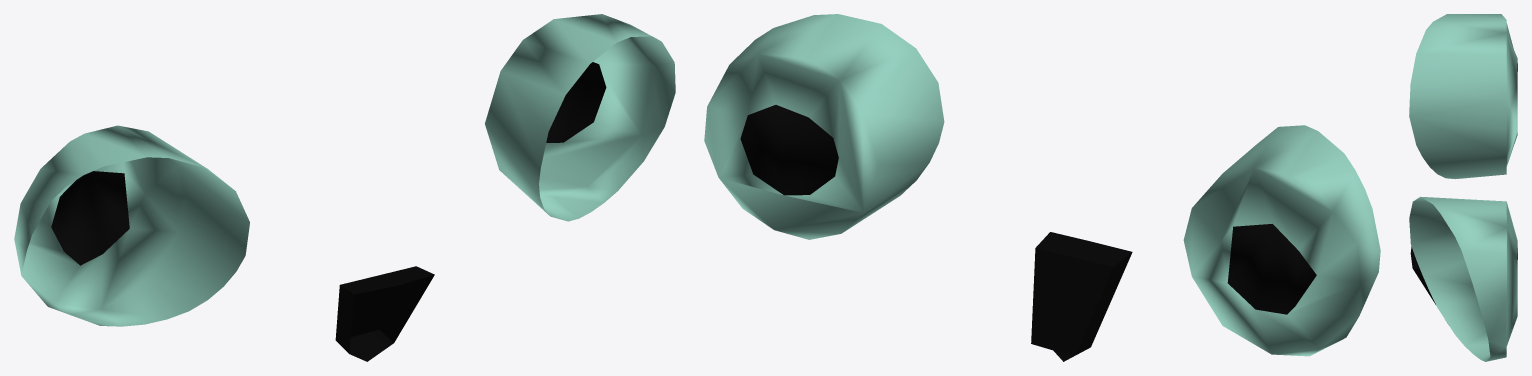
Rendered from Nao6_Head_Black.obj.
The picture shows the model from 3 angles, left to right: view 1: azimuth 30°, elevation 25°; view 2: azimuth 150°, elevation 25°; view 3: azimuth 270°, elevation 25°; orthographic projection. The views are drawn at different scales.
Parts seen in each view (by area): view 1: Nao6_Head_Black; view 2: Nao6_Head_Black; view 3: Nao6_Head_Black.
Boxes of the visible parts, x1,y1,x2,y2 form: Nao6_Head_Black: (14, 14, 675, 361); Nao6_Head_Black: (704, 14, 1380, 361); Nao6_Head_Black: (1409, 14, 1517, 361).
Bounding box in the file's own units: 0.5297 × 0.2126 × 0.0963.
